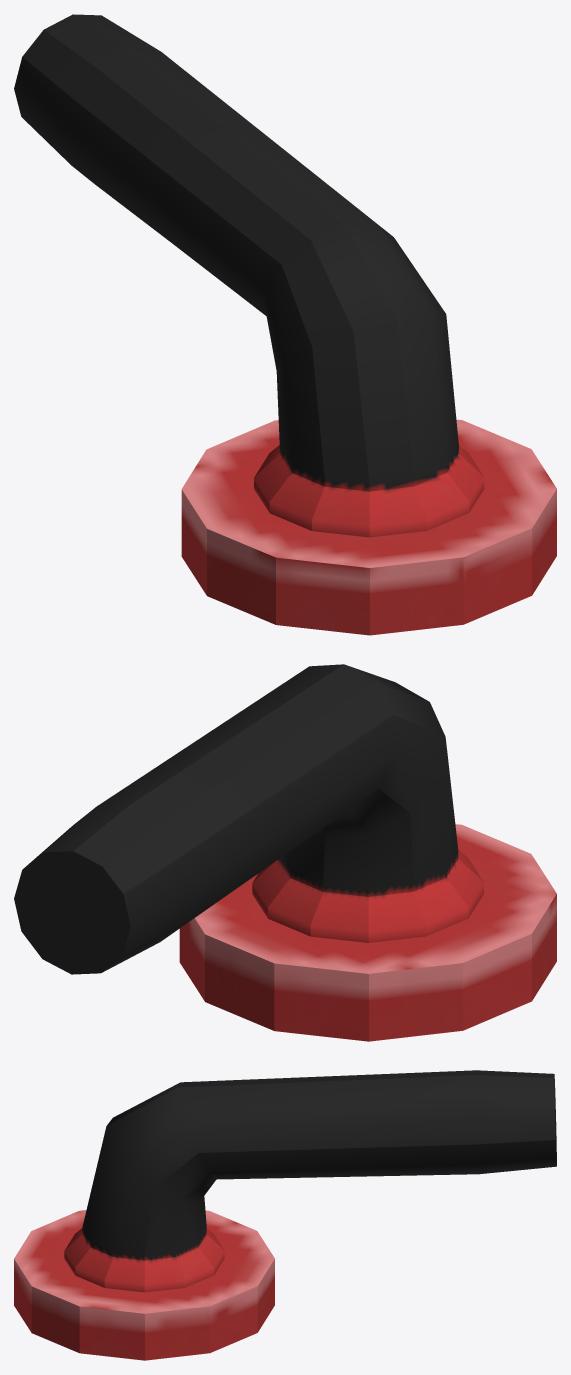
Rendered from Sensorama_part1.gltf.
3 views of the same model, one above another, from view 1: azimuth 30°, elevation 25°; view 2: azimuth 150°, elevation 25°; view 3: azimuth 270°, elevation 25° (orthographic). The views are drawn at different scales.
Parts seen in each view (by area): view 1: Sensorama_part1; view 2: Sensorama_part1; view 3: Sensorama_part1.
Part boxes in pixels (<box>): Sensorama_part1: <box>14,14,556,635</box>; Sensorama_part1: <box>14,664,556,1041</box>; Sensorama_part1: <box>14,1070,556,1360</box>.
Bounding box in the file's own units: 0.1853 × 0.1802 × 0.3855.
Materials: 1 (1 with a texture image).
